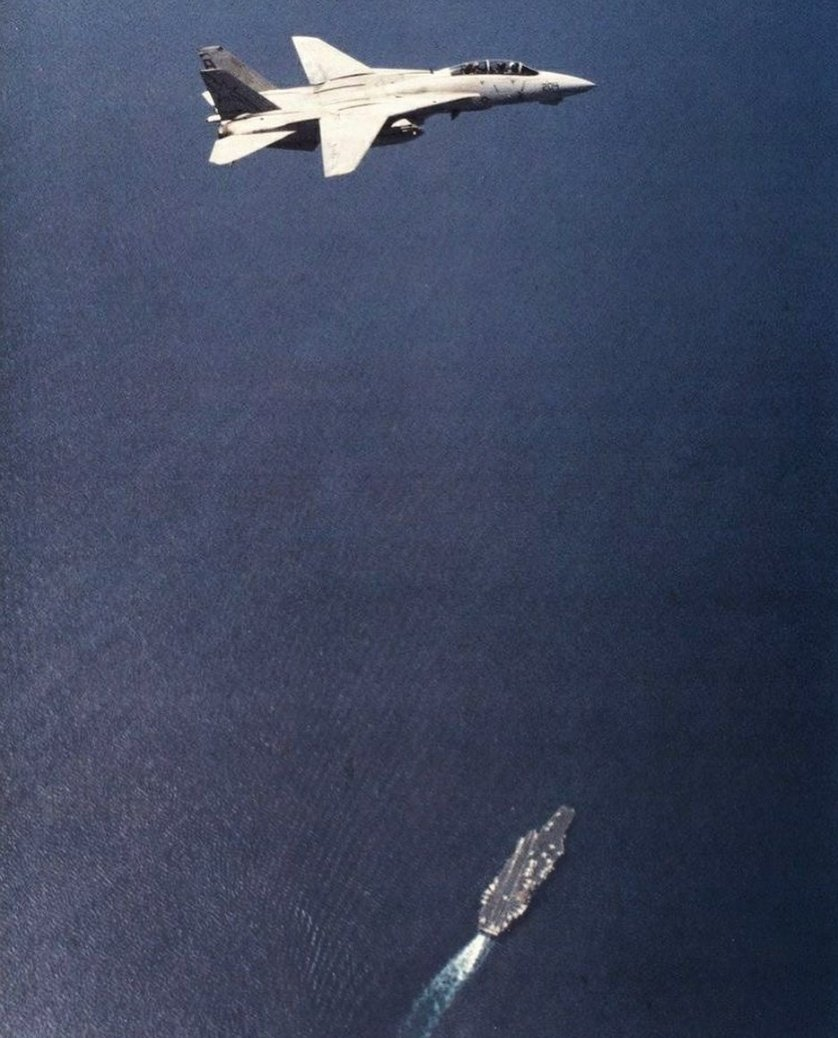F14: (196, 36, 600, 178)
